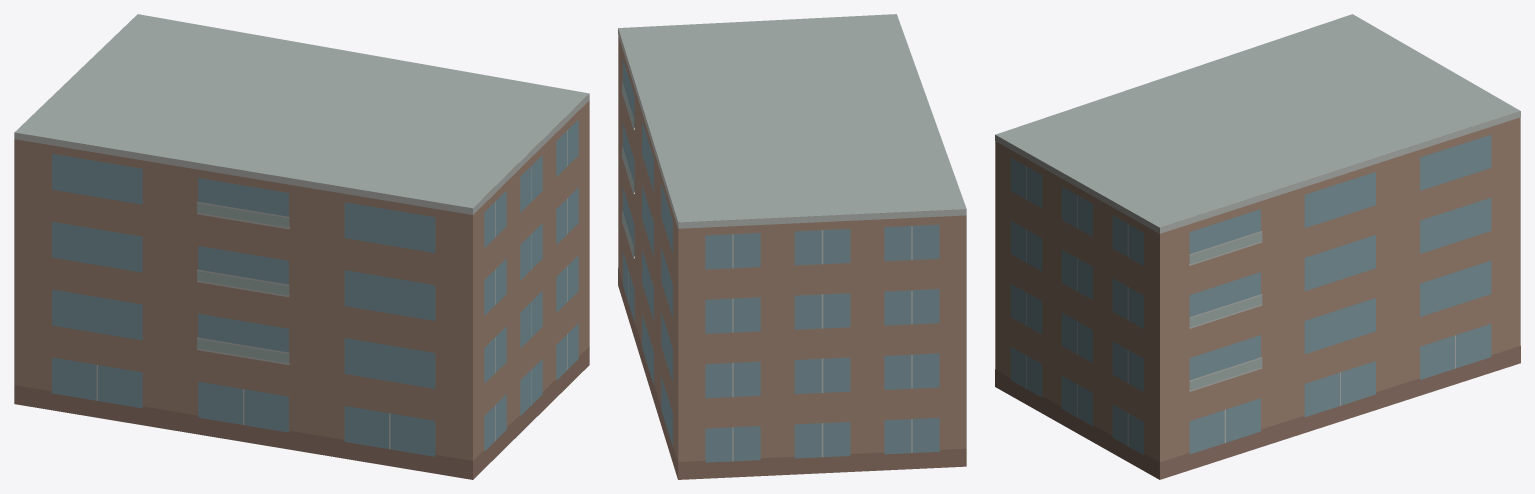
File: survey-upis-32516835.glb
The picture shows the model from 3 angles, left to right: view 1: azimuth 30°, elevation 25°; view 2: azimuth 150°, elevation 25°; view 3: azimuth 270°, elevation 25°; orthographic projection. The views are drawn at different scales.
Visible parts, largest first — view 1: survey-upis-32516835.tmp; view 2: survey-upis-32516835.tmp; view 3: survey-upis-32516835.tmp.
Part boxes in pixels (x1,y1,x2,y2): survey-upis-32516835.tmp: (14, 14, 589, 479); survey-upis-32516835.tmp: (618, 14, 966, 479); survey-upis-32516835.tmp: (995, 14, 1520, 479).
Size of the model in its own units: 17.99 by 9.9 by 18.71.
